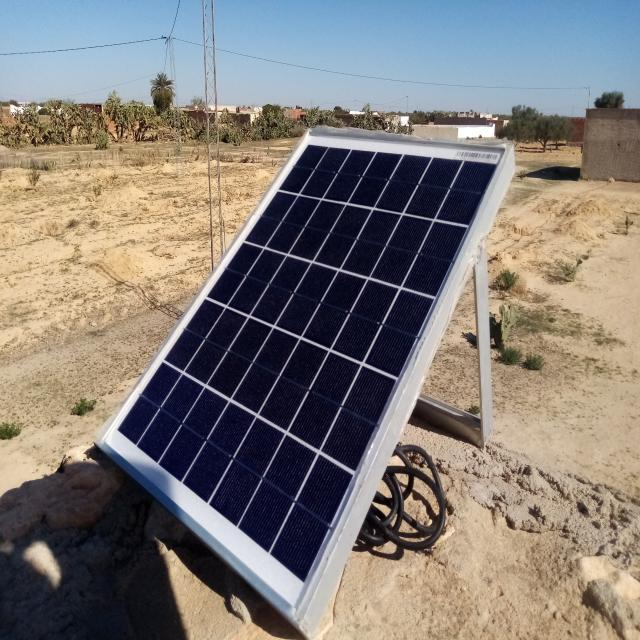no faulty: (97, 129, 509, 617)
